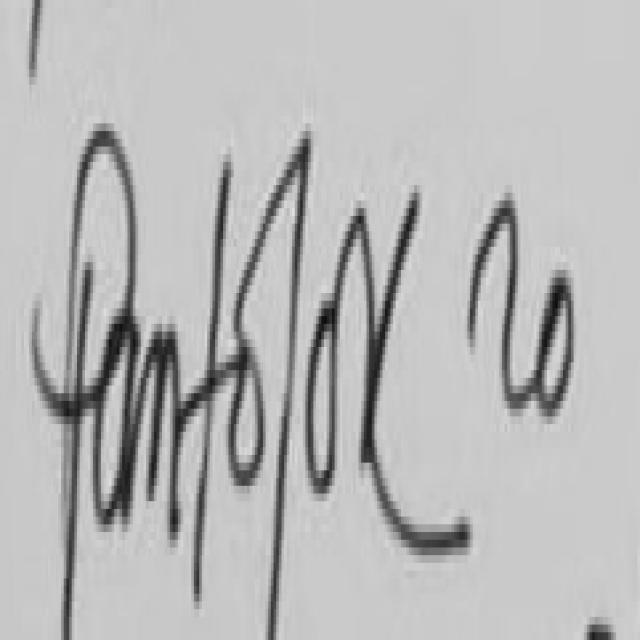0: (539, 278, 576, 416)
2: (470, 200, 531, 409)
P: (32, 123, 135, 636)
a: (93, 316, 141, 524)
l: (236, 139, 311, 636)
n: (135, 332, 181, 540)
o: (308, 301, 337, 493), (228, 347, 266, 486)
t: (175, 162, 231, 598)
x: (335, 193, 473, 555)
